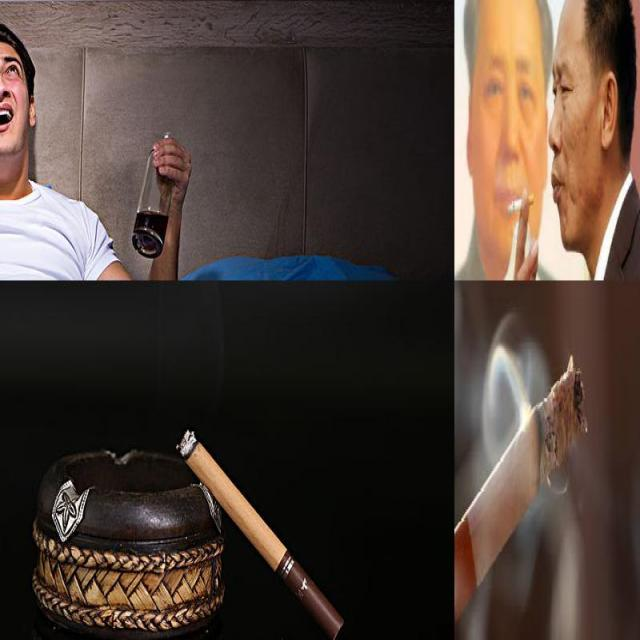cigarette: (170, 423, 345, 639), (454, 355, 588, 636), (507, 194, 534, 214)
